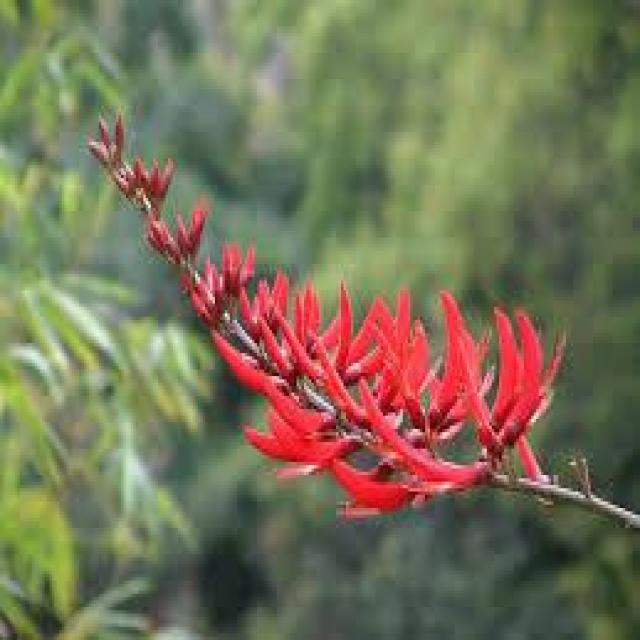organic waste: (100, 119, 565, 518)
